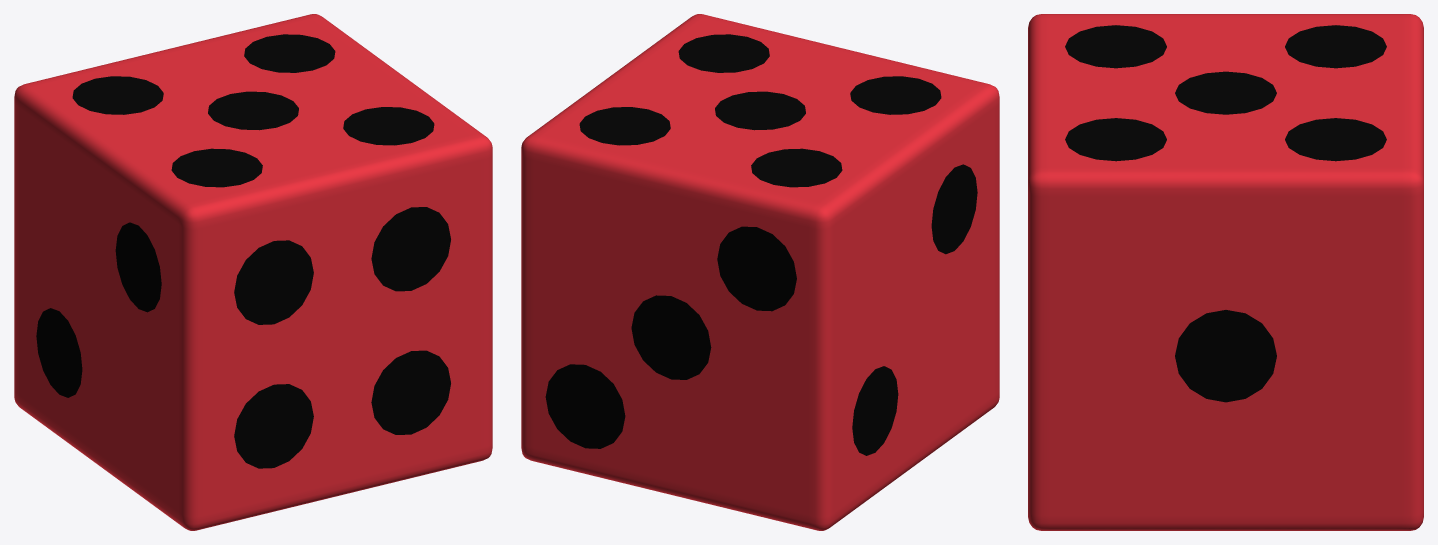
3 renders of one model, left to right at view 1: azimuth 30°, elevation 25°; view 2: azimuth 150°, elevation 25°; view 3: azimuth 270°, elevation 25°, orthographic. The views are drawn at different scales.
Visible parts, largest first — view 1: Cube.004; view 2: Cube.004; view 3: Cube.004.
Part boxes in pixels (left/top/right/bottom): Cube.004: left=14, top=14, right=492, bottom=530; Cube.004: left=521, top=14, right=999, bottom=530; Cube.004: left=1028, top=14, right=1423, bottom=530.
Size of what is drawn, in the model's own units: 0.016 by 0.016 by 0.016.
